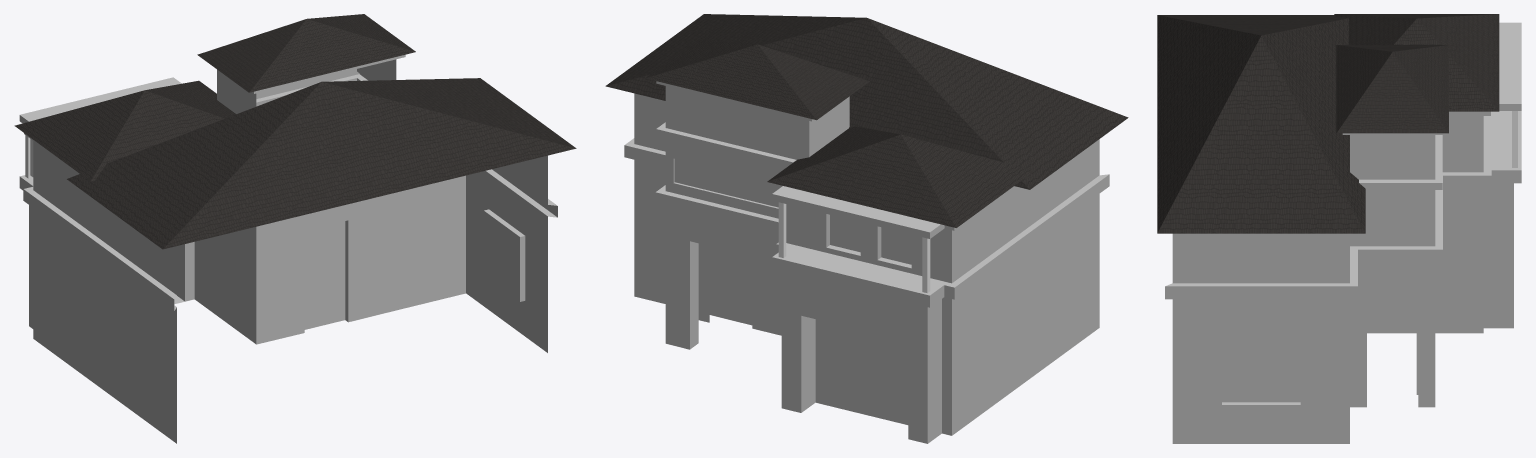
File: House.fbx
The picture shows the model from 3 angles, left to right: view 1: azimuth 30°, elevation 25°; view 2: azimuth 150°, elevation 25°; view 3: azimuth 270°, elevation 25°; orthographic projection. The views are drawn at different scales.
Visible parts, largest first — view 1: pCube1, pPyramid2, pPyramid3, pPyramid1; view 2: pCube1, pPyramid2, pPyramid3, pPyramid1; view 3: pCube1, pPyramid2, pPyramid1, pPyramid3.
Part boxes in pixels (x1,y1,x2,y2): pCube1: (19, 54, 557, 443); pPyramid2: (67, 78, 576, 249); pPyramid3: (14, 80, 235, 181); pPyramid1: (197, 14, 415, 92); pCube1: (624, 81, 1109, 443); pPyramid2: (605, 14, 1128, 189); pPyramid3: (767, 126, 1034, 227); pPyramid1: (645, 39, 869, 120); pCube1: (1165, 22, 1521, 443); pPyramid2: (1157, 15, 1365, 233); pPyramid1: (1336, 45, 1448, 133); pPyramid3: (1334, 14, 1499, 111).
Size of the model in its own units: 66.84 by 45.43 by 47.11.
